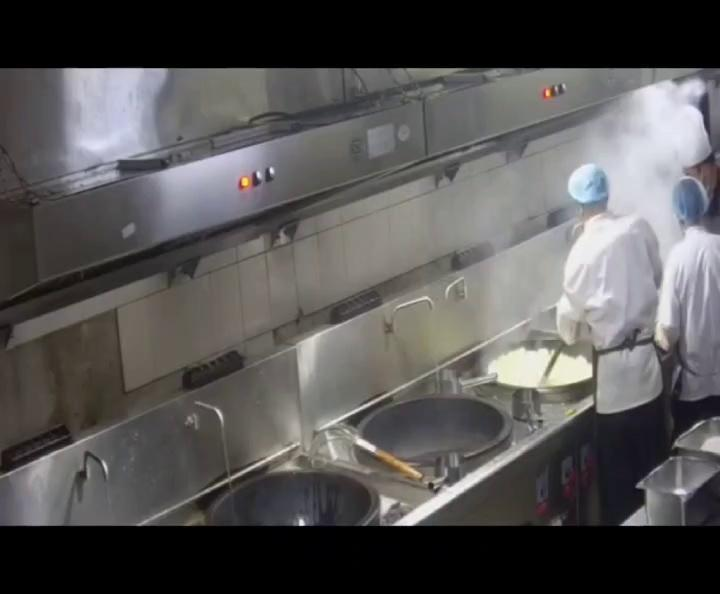gloves: (670, 180, 710, 224), (570, 165, 612, 205)
